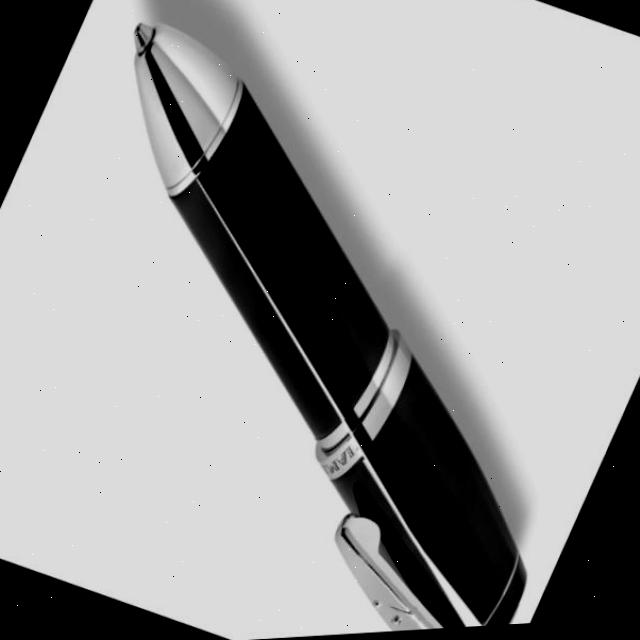pencil: (112, 14, 550, 629)
